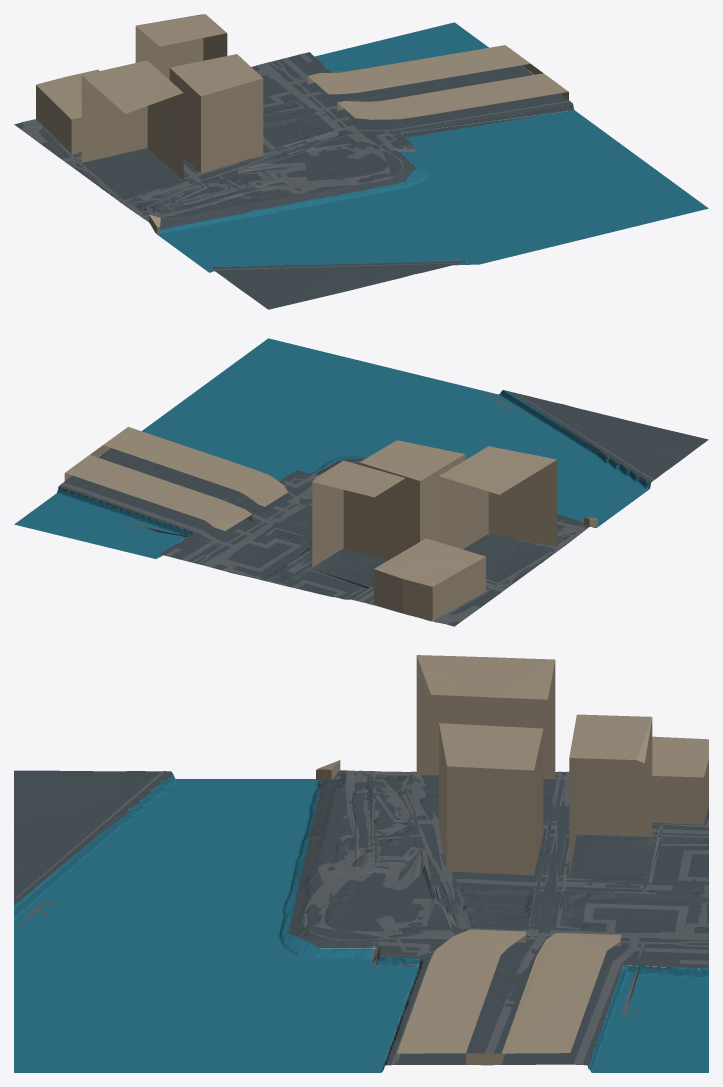
The model's file is epsg26910-1442-10888.lod0.glb.
3 renders of one model, top to bottom at view 1: azimuth 30°, elevation 25°; view 2: azimuth 150°, elevation 25°; view 3: azimuth 270°, elevation 25°, orthographic. The views are drawn at different scales.
Parts seen in each view (by area): view 1: epsg26910-1442-10888-lod0; view 2: epsg26910-1442-10888-lod0; view 3: epsg26910-1442-10888-lod0.
Part boxes in pixels (x1=…): epsg26910-1442-10888-lod0: x1=14, y1=14, x2=708, y2=309; epsg26910-1442-10888-lod0: x1=14, y1=338, x2=708, y2=626; epsg26910-1442-10888-lod0: x1=14, y1=655, x2=708, y2=1072.
Size of the model in its own units: 384 by 79.11 by 384.
